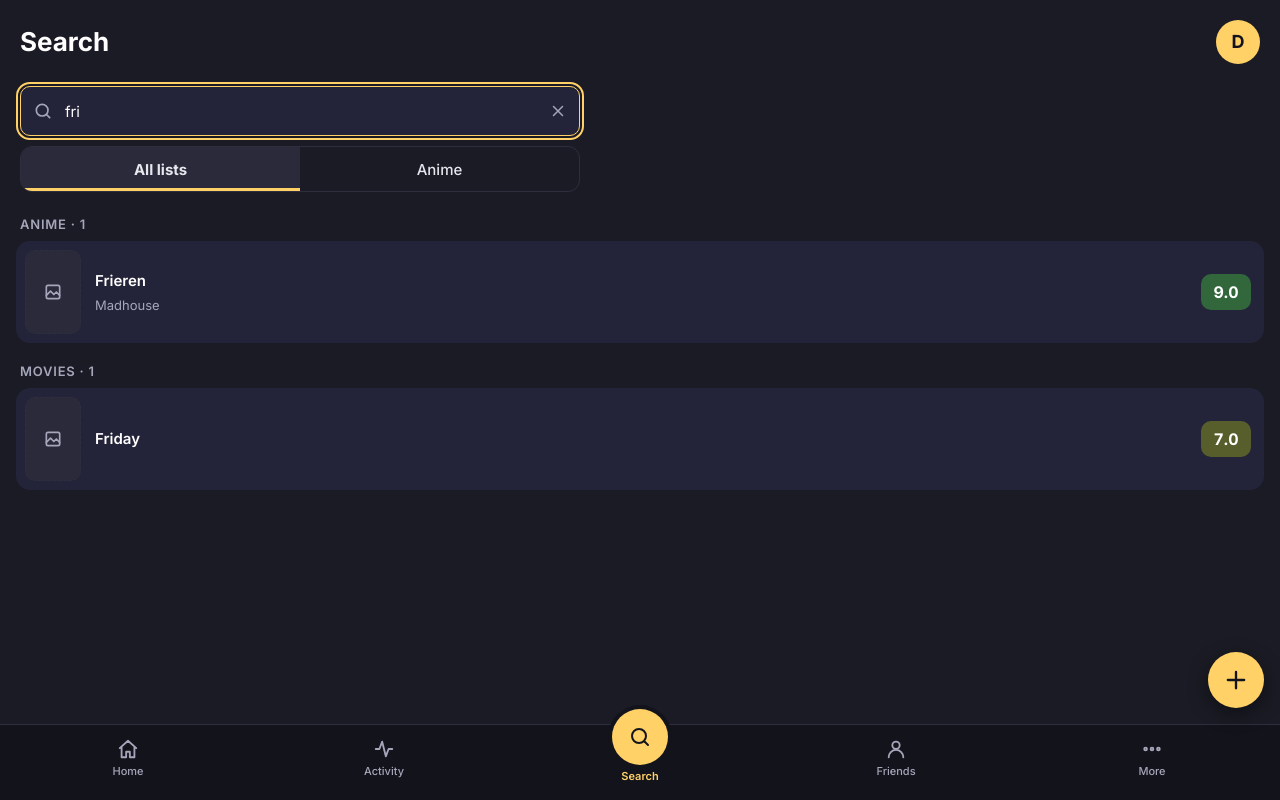
Test: SearchScreen › the toggle "All lists | Anime" saves searchScope current and narrows to the current list
Expected: the link "Friday 7.0" is shown, [17,389,1263,489]
Expected: the radio button labelled "All lists" is checked, [21,147,300,191]
Click the radio button labelled "Anime" at (440, 169), box [417,160,462,178]
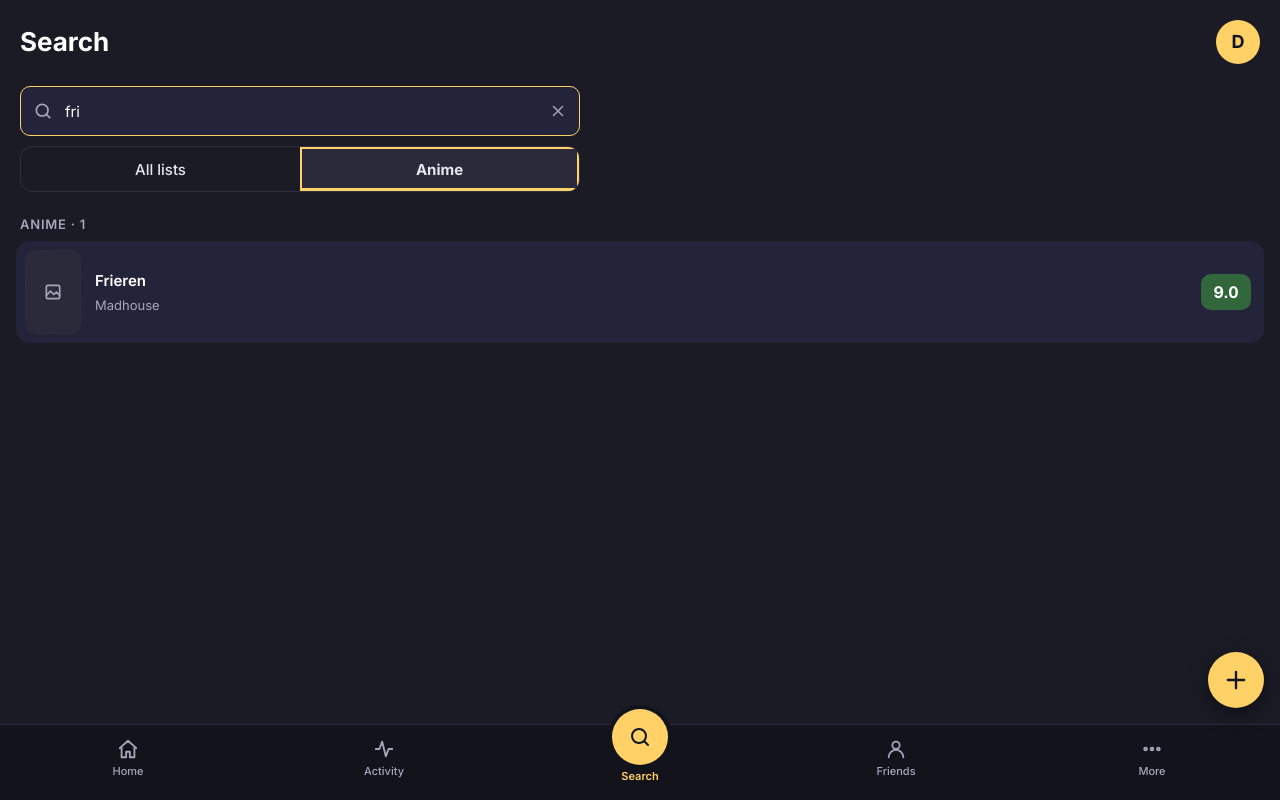
Expected: the link "Frieren Madhouse 9.0" is shown, [17,242,1263,342]
Now the link "Friday" is gone
